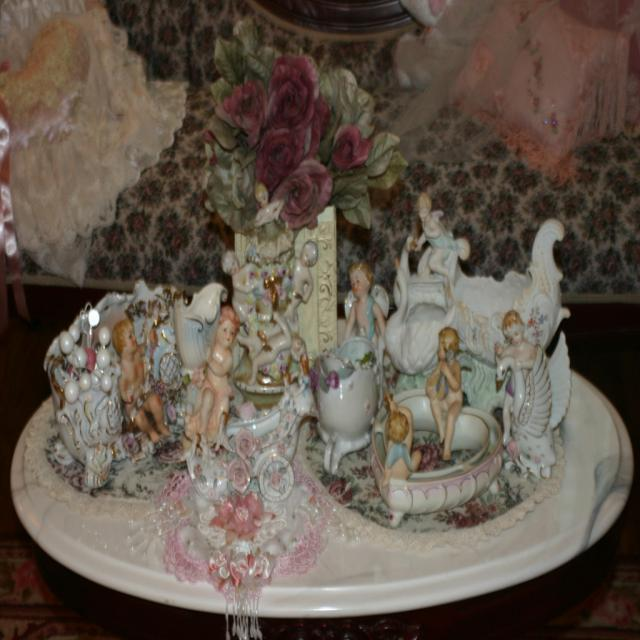Toy: (43, 192, 569, 525)
